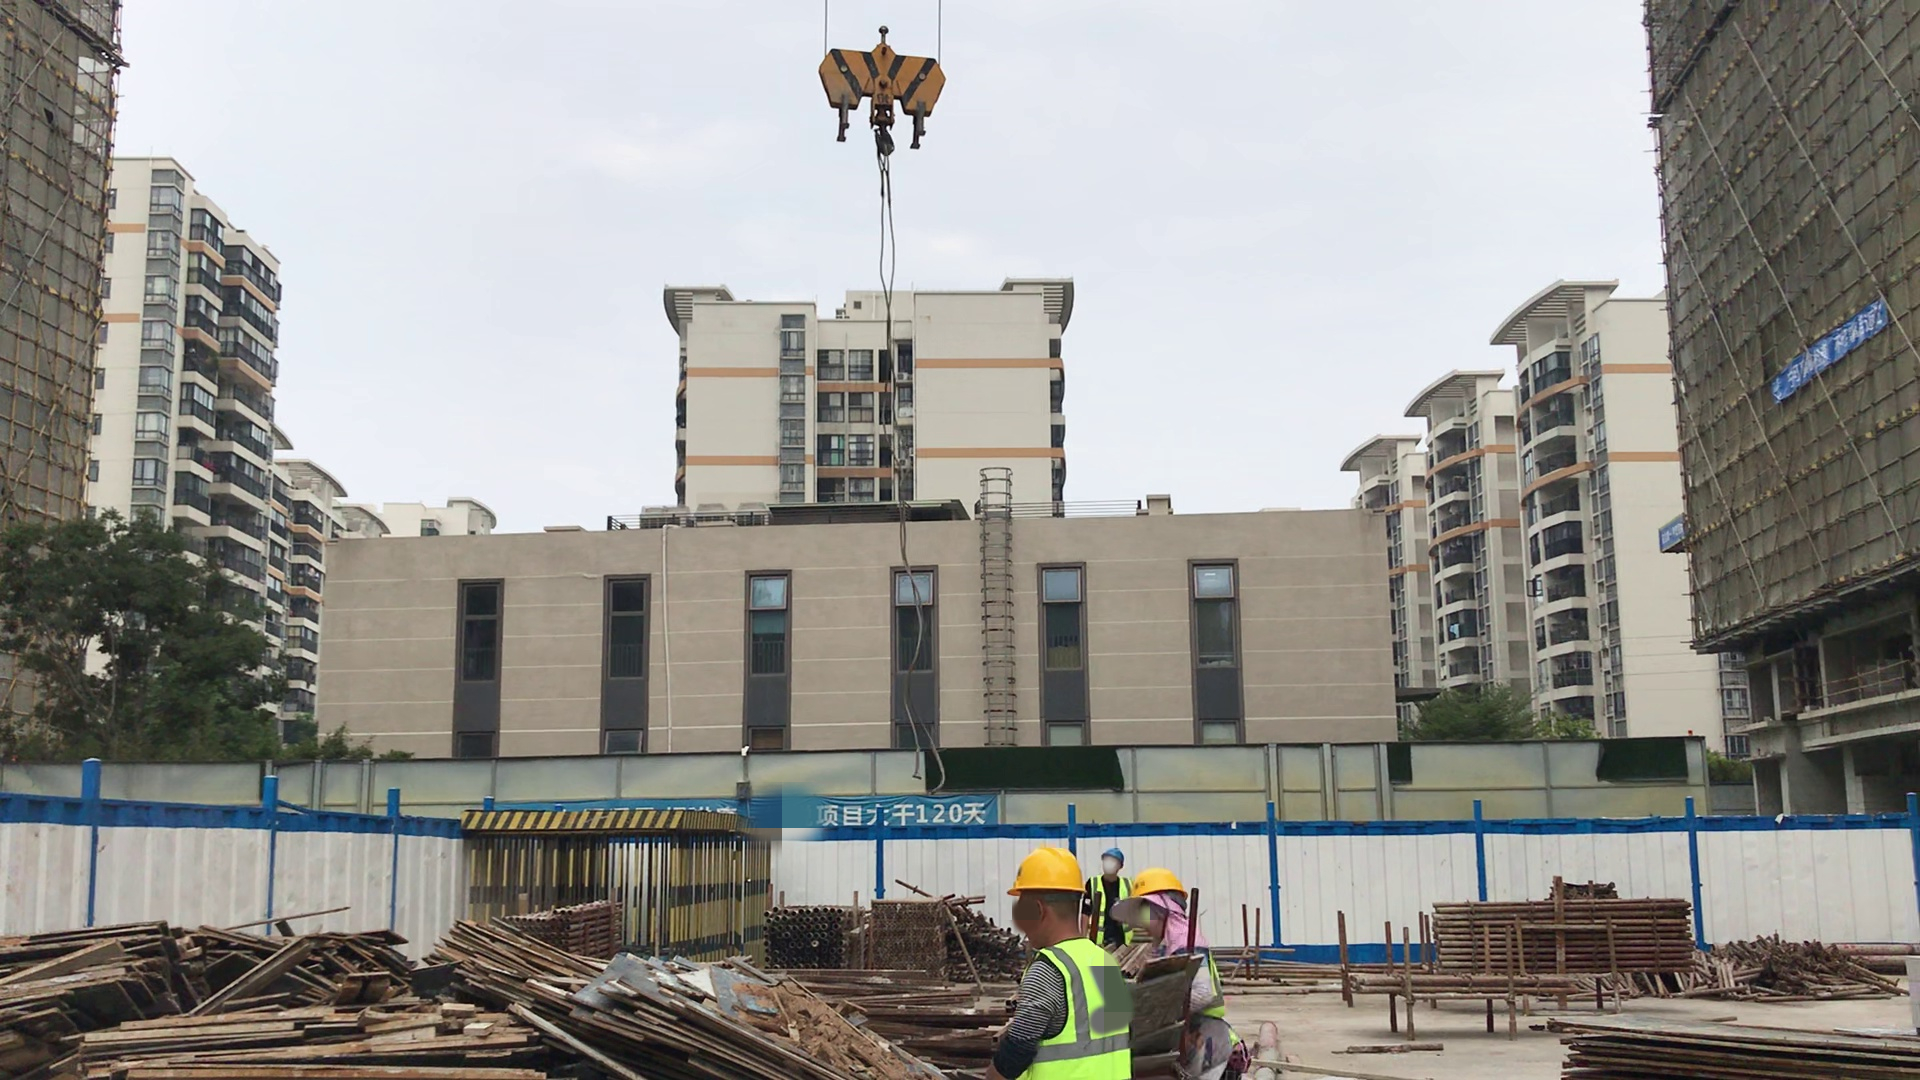helmet: (1008, 843, 1089, 910), (1116, 865, 1203, 903), (1100, 839, 1127, 869)
hook: (813, 24, 955, 151)
person: (995, 848, 1132, 1080), (1130, 867, 1255, 1026), (1102, 854, 1140, 954)
scaffold: (1432, 901, 1697, 961), (770, 898, 878, 975)
slogan: (799, 782, 1000, 841)
vest: (1021, 942, 1127, 1080), (1092, 874, 1123, 941)
